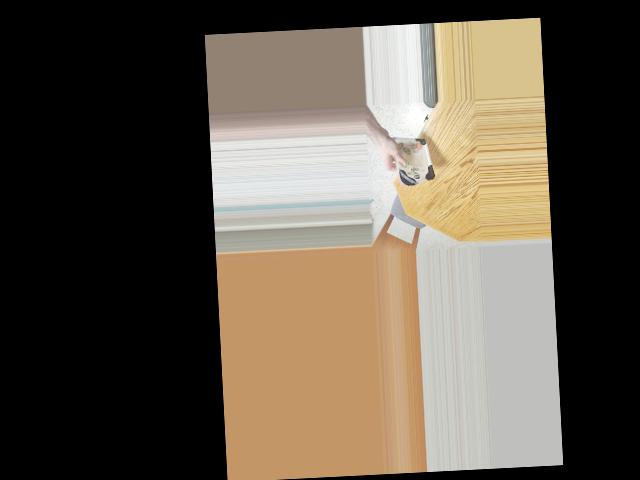cheese: (393, 129, 431, 189)
